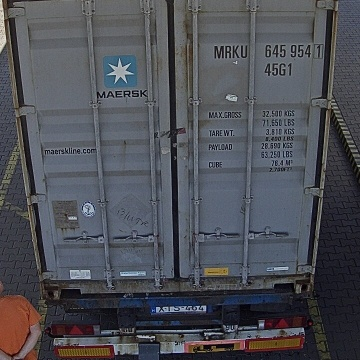serial_id: (214, 44, 322, 58)
